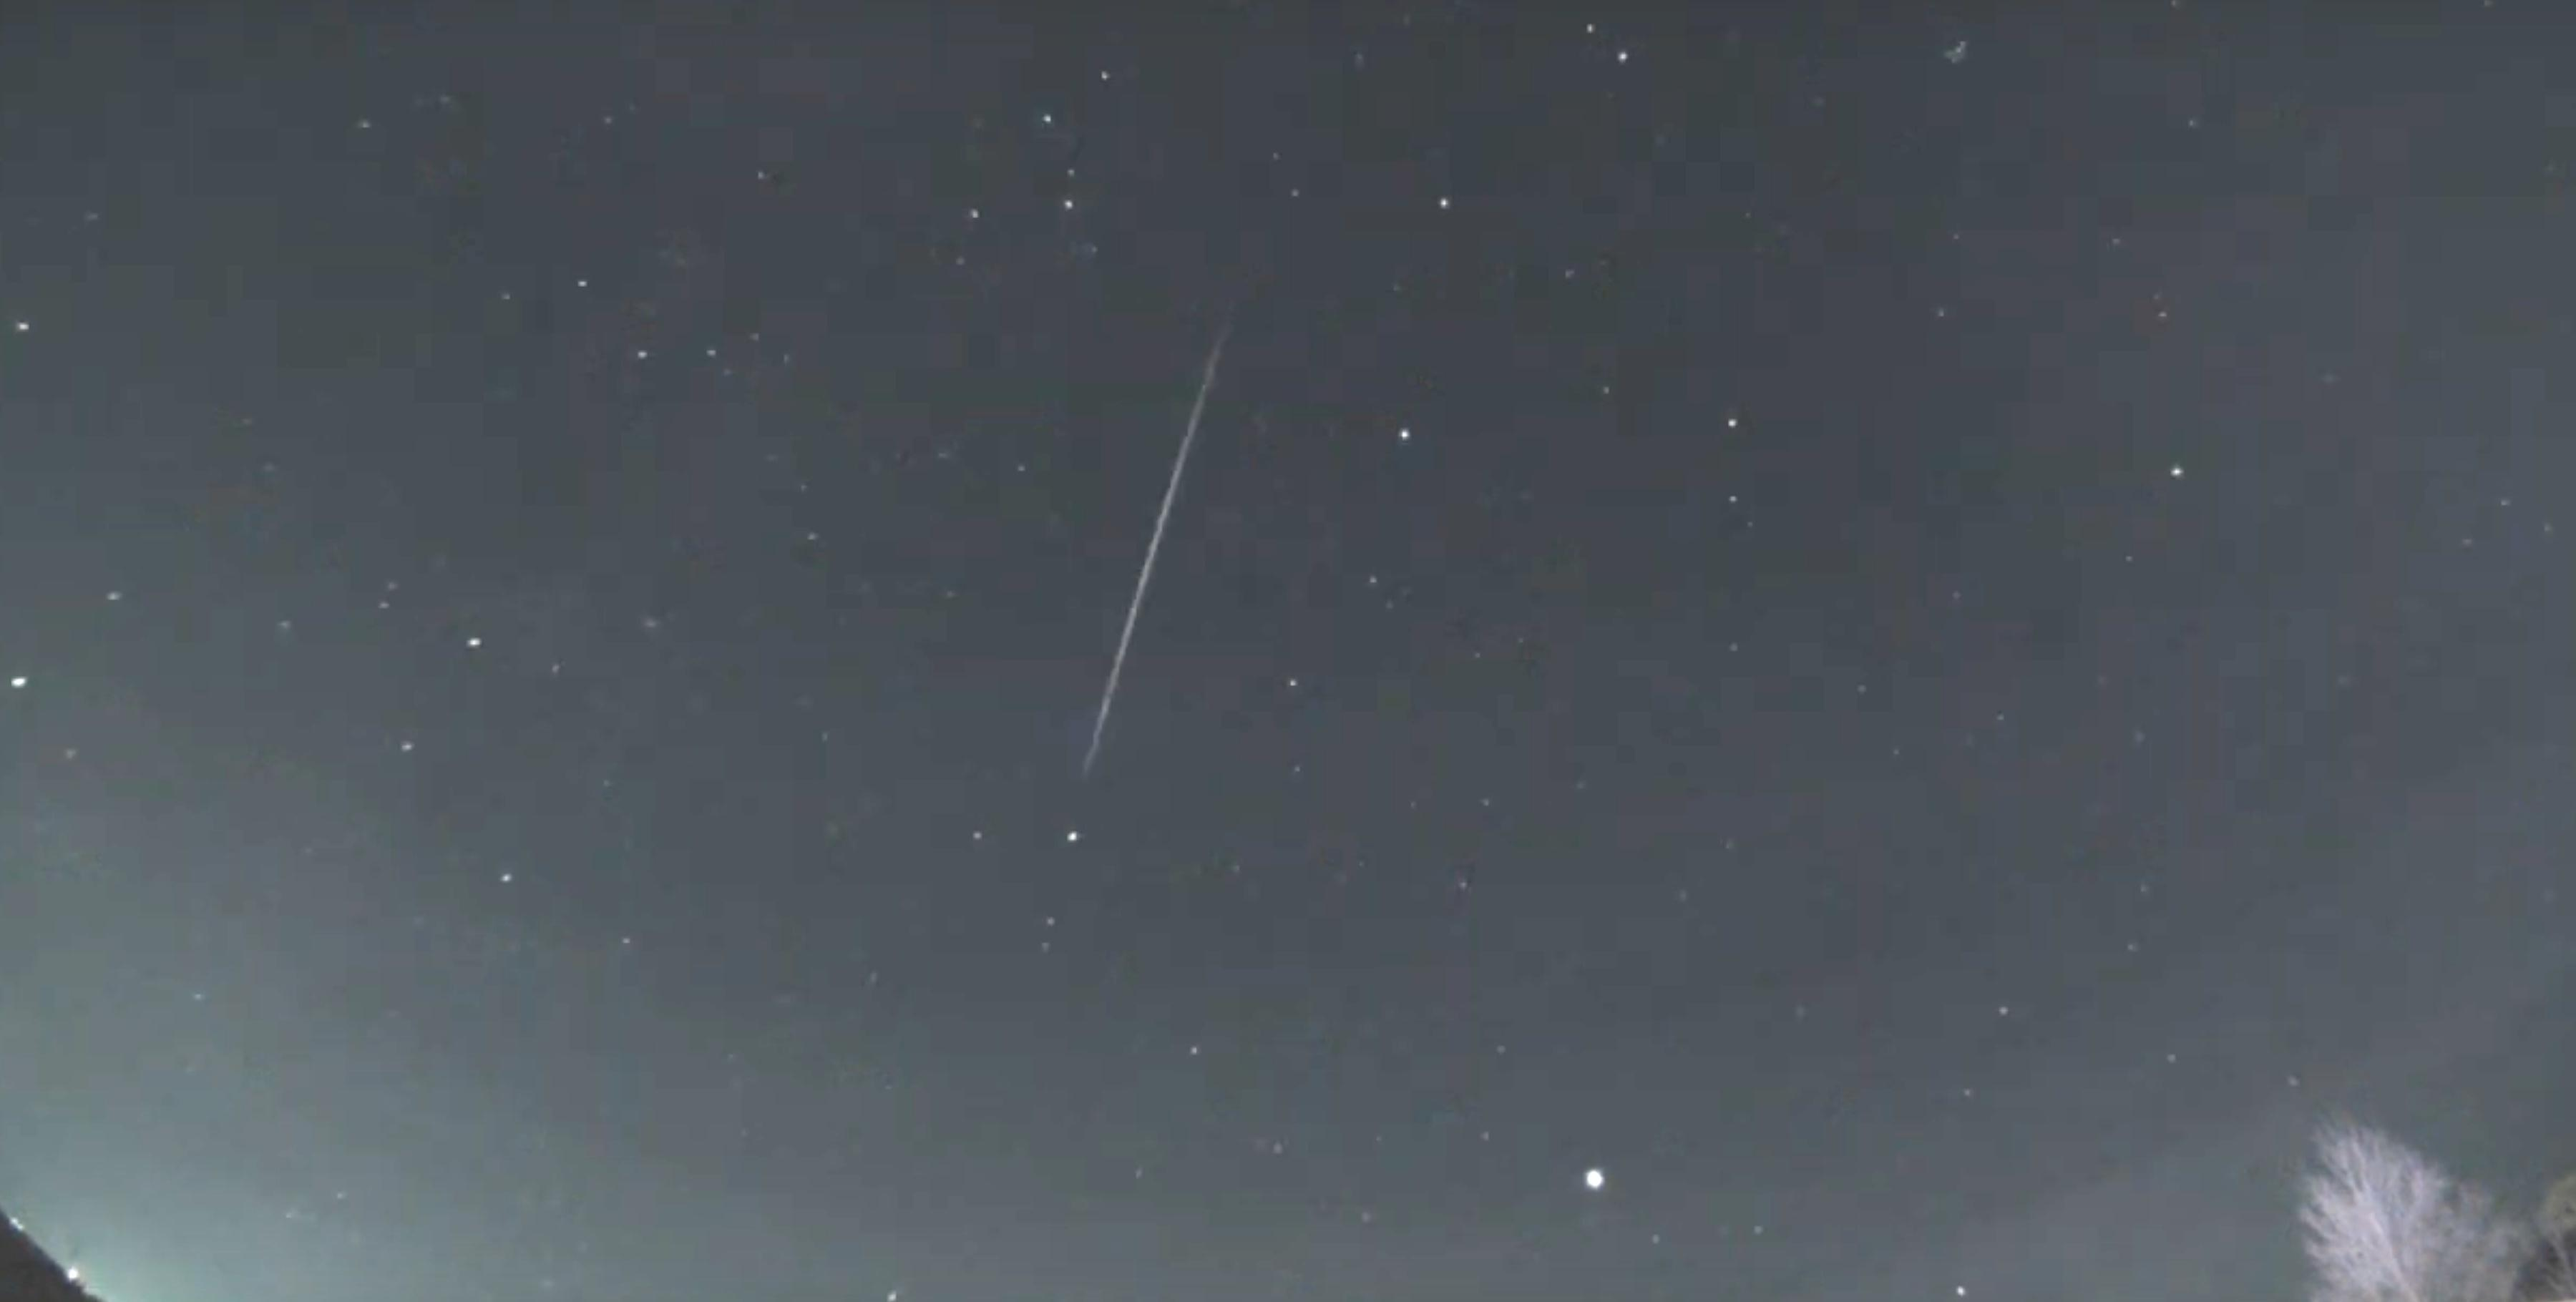meteorite: (1043, 458, 1194, 790)
